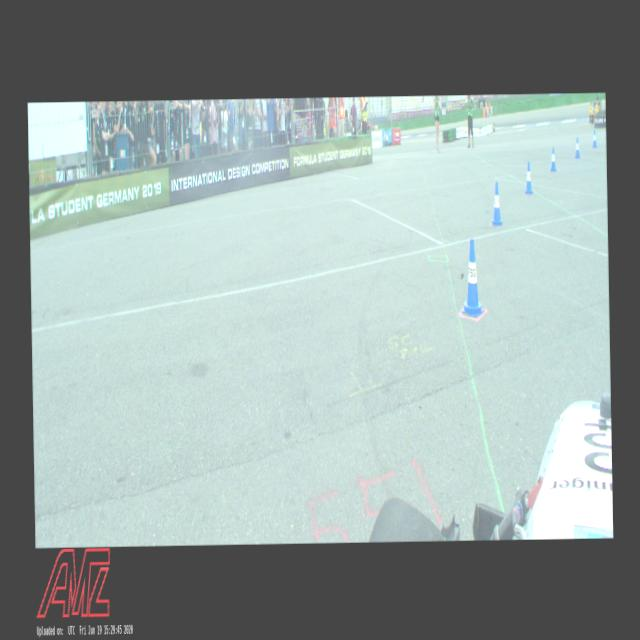blue_cone: (460, 238, 484, 318), (490, 182, 503, 227), (524, 162, 533, 194), (549, 147, 556, 171), (574, 138, 580, 158), (592, 130, 596, 147)
